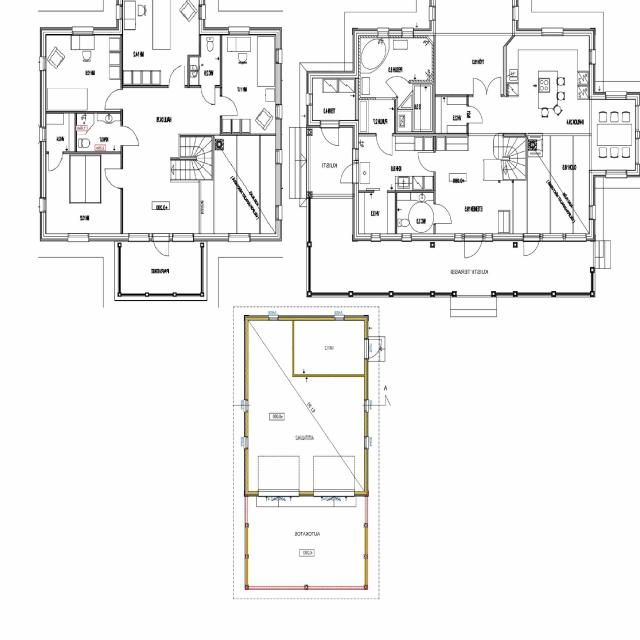door: (386, 67, 410, 97), (464, 233, 484, 264), (320, 120, 339, 151), (335, 162, 359, 184), (152, 234, 170, 262), (524, 233, 540, 260), (364, 339, 384, 359), (376, 133, 392, 157), (417, 152, 436, 172), (104, 90, 123, 110), (169, 65, 185, 88), (433, 204, 452, 223), (220, 96, 238, 116), (121, 126, 139, 145), (105, 169, 123, 188), (49, 151, 63, 172), (473, 77, 487, 97), (488, 77, 502, 97), (201, 85, 215, 105), (467, 106, 482, 122)
